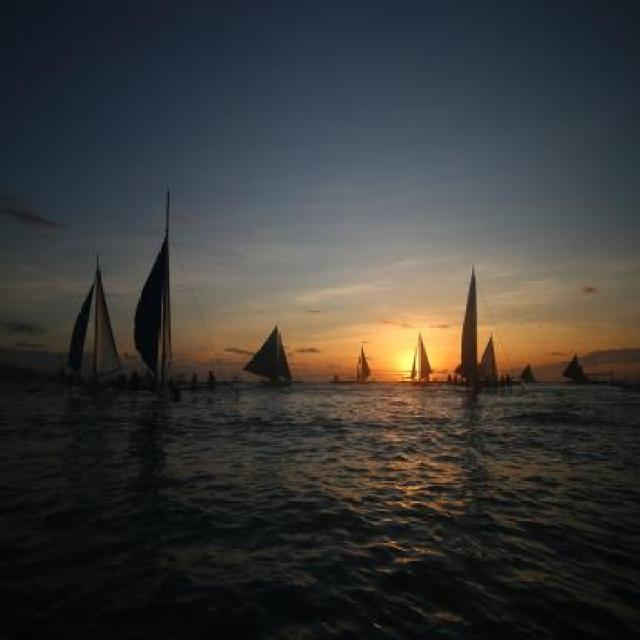ship: (134, 188, 177, 401), (64, 254, 122, 404), (452, 264, 498, 388), (240, 319, 292, 383), (407, 332, 431, 379), (562, 351, 588, 380), (355, 340, 370, 382)
